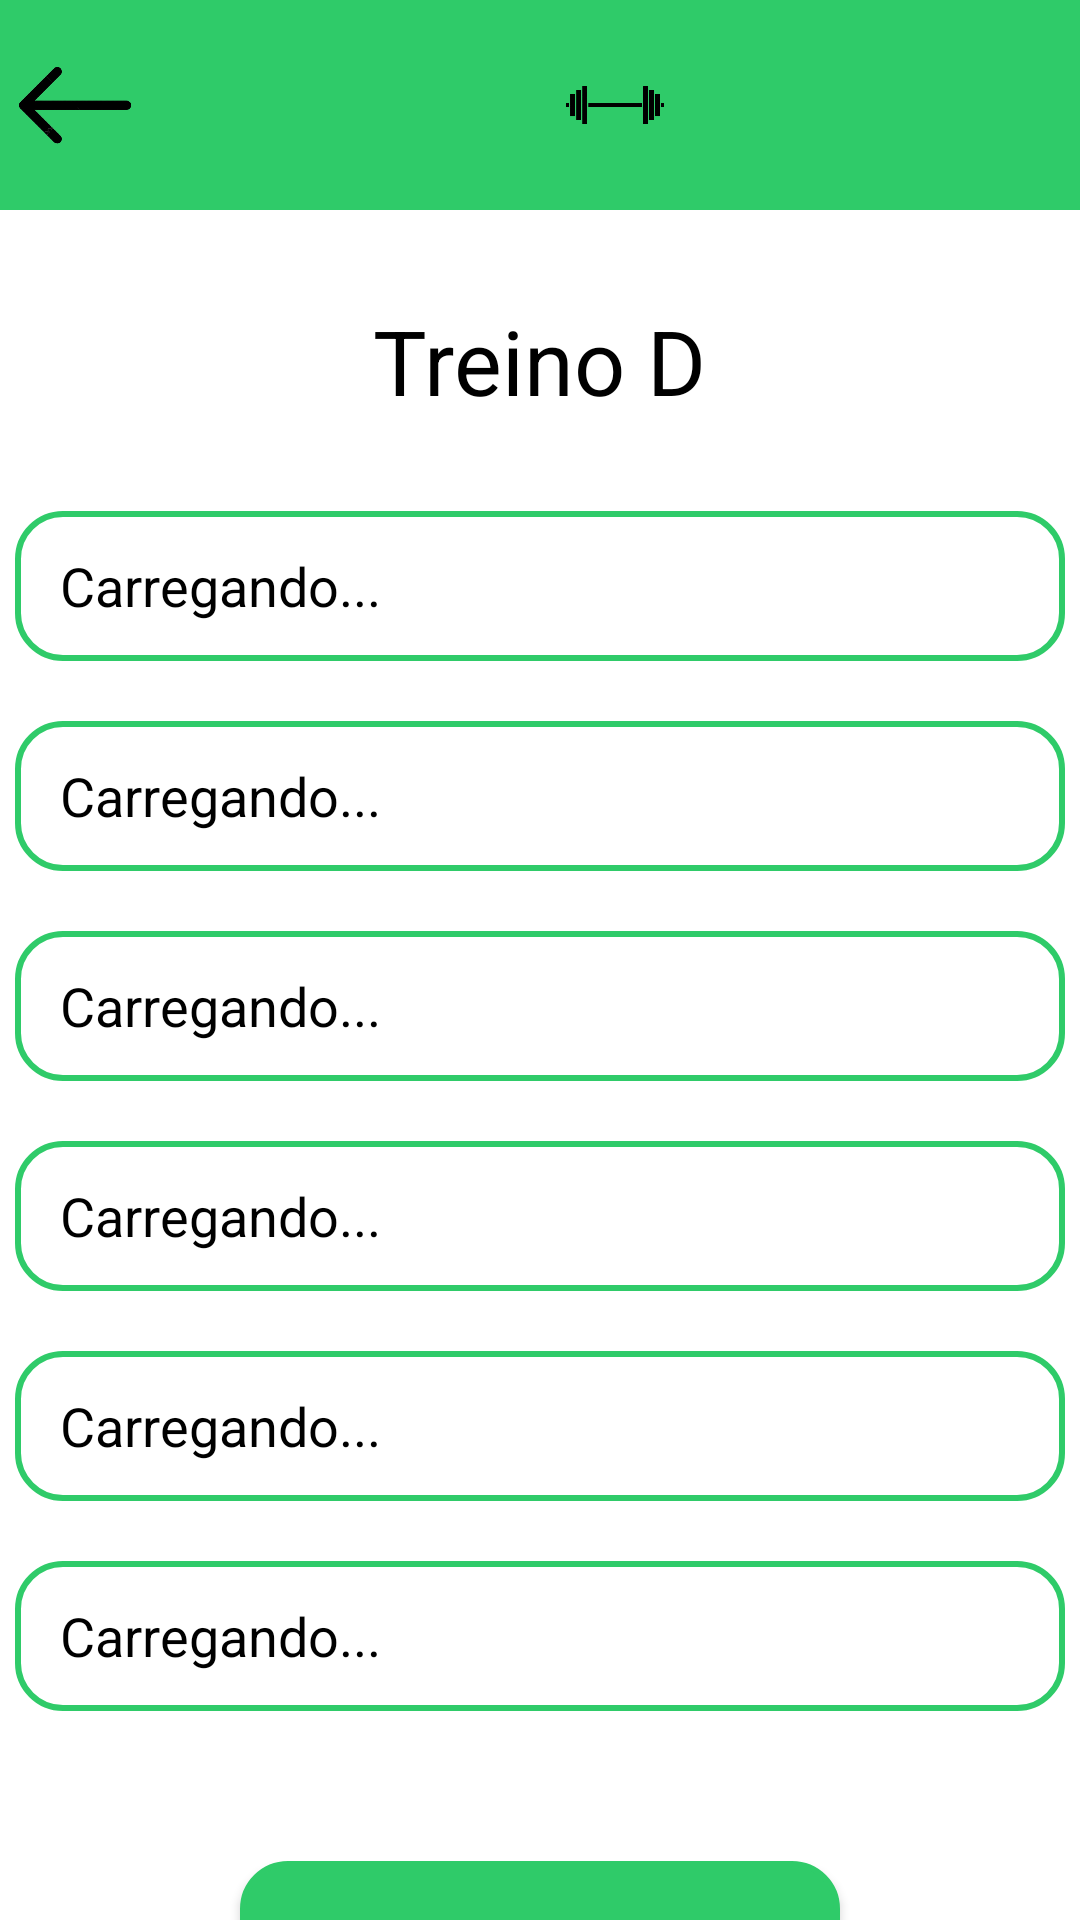

Where to tap for icons on this 1080 x 1920 app screen, as (x,y):
voltar: (75,105)
